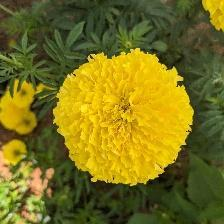marigold: (55, 49, 196, 187)
